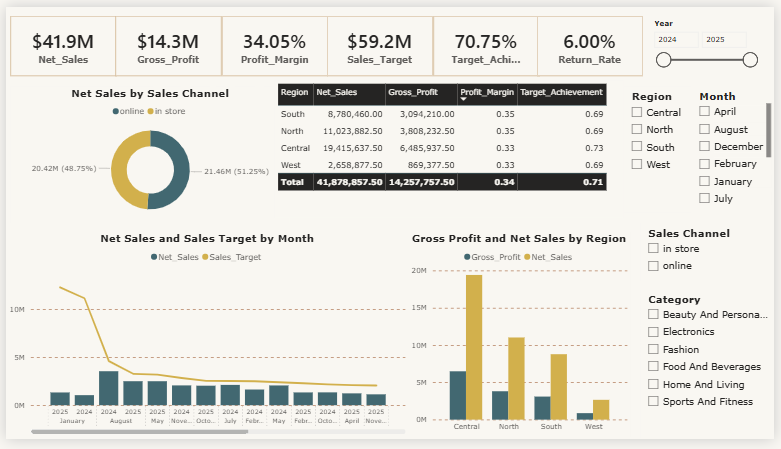

This screenshot's page, from the dashboard's own definition file:
{"tool":"powerbi","page":{"name":"Executive Overview","canvas":[1280,720],"ordinal":0},"visuals":[{"type":"cardVisual","title":"Net Sales","fields":{"Data":["_Measures.Net_Sales"]},"box":[6.3,14.1,176.6,100],"z":0},{"type":"lineClusteredColumnComboChart","title":"Net Sales and Sales Target by Month ","fields":{"Y":["_Measures.Net_Sales"],"Y2":["_Measures.Sales_Target"],"Category":["DimMonth.Month_Name","DimMonth.Year"]},"box":[0,375.9,670.7,341.4],"z":1000},{"type":"clusteredColumnChart","title":"Gross Profit and Net Sales by Region","fields":{"Category":["DimStores.Region"],"Y":["_Measures.Gross_Profit","_Measures.Net_Sales"]},"box":[670.7,375.9,370.7,341.4],"z":2000},{"type":"donutChart","title":"Net Sales by Sales Channel","fields":{"Y":["_Measures.Net_Sales"],"Category":["FactSales.Sales_Channel"]},"box":[6.9,132.8,465.5,227.6],"z":3000},{"type":"tableEx","fields":{"Values":["DimStores.Region","_Measures.Net_Sales","_Measures.Gross_Profit","_Measures.Profit_Margin","_Measures.Target_Achievement"]},"box":[447.5,123.7,581.4,228.8],"z":4000},{"type":"slicer","fields":{"Values":["DimDate.Year"]},"box":[1067.5,14.1,193.8,100],"z":5000},{"type":"slicer","fields":{"Values":["DimMonth.Month_Name"]},"box":[1141.4,132.8,137.9,210.3],"z":6000},{"type":"slicer","fields":{"Values":["DimStores.Region"]},"box":[1028.8,132.2,111.9,210.2],"z":7000},{"type":"slicer","fields":{"Values":["DimProducts.Category"]},"box":[1058.6,469,220.7,248.3],"z":8000},{"type":"slicer","fields":{"Values":["FactSales.Sales_Channel"]},"box":[1058.6,360.3,220.7,96.6],"z":9000},{"type":"cardVisual","title":"Net Sales","fields":{"Data":["_Measures.Gross_Profit"]},"box":[182.9,14.1,176.6,100],"z":10000},{"type":"cardVisual","title":"Net Sales","fields":{"Data":["_Measures.Profit_Margin"]},"box":[359.5,14.1,176.6,100],"z":11000},{"type":"cardVisual","title":"Net Sales","fields":{"Data":["_Measures.Sales_Target"]},"box":[536.1,14.1,176.6,100],"z":12000},{"type":"cardVisual","title":"Net Sales","fields":{"Data":["_Measures.Target_Achievement"]},"box":[712.7,14.1,176.6,100],"z":13000},{"type":"cardVisual","title":"Net Sales","fields":{"Data":["_Measures.Return_Rate"]},"box":[884.7,14.1,176.6,100],"z":14000}]}

Visuals, with their boxes in screenshot pixels (x1, y1, x2, y2), scaled from the page's 1280x720 canvas onto the 781x449 screenshot:
"Net Sales" cardVisual: bbox=[4, 9, 112, 71]
"Net Sales and Sales Target by Month " lineClusteredColumnComboChart: bbox=[0, 234, 409, 447]
"Gross Profit and Net Sales by Region" clusteredColumnChart: bbox=[409, 234, 635, 447]
"Net Sales by Sales Channel" donutChart: bbox=[4, 83, 288, 225]
tableEx - DimStores.Region x _Measures.Net_Sales: bbox=[273, 77, 628, 220]
slicer - DimDate.Year: bbox=[651, 9, 770, 71]
slicer - DimMonth.Month_Name: bbox=[696, 83, 780, 214]
slicer - DimStores.Region: bbox=[628, 82, 696, 214]
slicer - DimProducts.Category: bbox=[646, 292, 780, 447]
slicer - FactSales.Sales_Channel: bbox=[646, 225, 780, 285]
"Net Sales" cardVisual: bbox=[112, 9, 219, 71]
"Net Sales" cardVisual: bbox=[219, 9, 327, 71]
"Net Sales" cardVisual: bbox=[327, 9, 435, 71]
"Net Sales" cardVisual: bbox=[435, 9, 543, 71]
"Net Sales" cardVisual: bbox=[540, 9, 648, 71]
